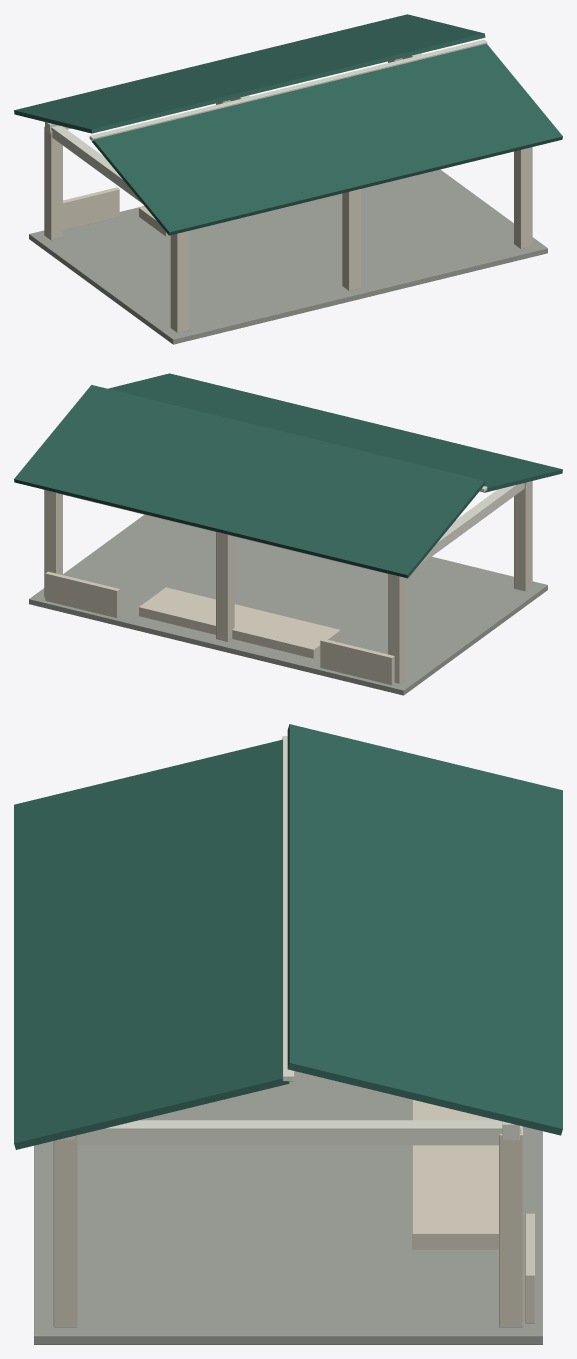
Rendered from source-edit.glb.
3 views of the same model, one above another, from view 1: azimuth 30°, elevation 25°; view 2: azimuth 150°, elevation 25°; view 3: azimuth 270°, elevation 25° (orthographic). The views are drawn at different scales.
Parts seen in each view (by area): view 1: ROOF_Half_-1, PLATFORM, ROOF_Half_1, RIDGE_Cap, COLUMN_-5.5_3.5, COLUMN_5.5_-3.5, COLUMN_0_-3.5, COLUMN_-5.5_-3.5, REAR_LowWall_-4.4, BEAM_Cross_-5.5; view 2: ROOF_Half_1, PLATFORM, ROOF_Half_-1, REAR_Platform, REAR_LowWall_4.4, REAR_LowWall_-4.4, COLUMN_0_3.5, COLUMN_-5.5_-3.5, COLUMN_-5.5_3.5, COLUMN_5.5_3.5, BEAM_Cross_-5.5; view 3: ROOF_Half_1, ROOF_Half_-1, PLATFORM, BEAM_Cross_5.5, REAR_Platform, COLUMN_5.5_3.5, COLUMN_5.5_-3.5, RIDGE_Cap, REAR_LowWall_4.4.
Boxes of the visible parts, box(x1,y1,x2,y2) form: ROOF_Half_-1: box(91, 43, 562, 235); PLATFORM: box(29, 169, 547, 344); ROOF_Half_1: box(14, 14, 485, 133); RIDGE_Cap: box(89, 39, 487, 141); COLUMN_-5.5_3.5: box(44, 126, 62, 240); COLUMN_5.5_-3.5: box(514, 147, 532, 248); COLUMN_0_-3.5: box(342, 189, 360, 290); COLUMN_-5.5_-3.5: box(170, 231, 188, 332); REAR_LowWall_-4.4: box(63, 187, 119, 230); BEAM_Cross_-5.5: box(51, 125, 142, 203); ROOF_Half_1: box(14, 385, 485, 578); PLATFORM: box(29, 514, 547, 695); ROOF_Half_-1: box(108, 373, 562, 492); REAR_Platform: box(139, 587, 340, 658); REAR_LowWall_4.4: box(45, 571, 119, 617); REAR_LowWall_-4.4: box(320, 638, 394, 685); COLUMN_0_3.5: box(216, 531, 234, 641); COLUMN_-5.5_-3.5: box(514, 481, 532, 591); COLUMN_-5.5_3.5: box(388, 573, 406, 683); COLUMN_5.5_3.5: box(44, 490, 62, 597); BEAM_Cross_-5.5: box(418, 483, 524, 566); ROOF_Half_1: box(287, 724, 562, 1135); ROOF_Half_-1: box(14, 739, 289, 1149); PLATFORM: box(34, 1071, 542, 1344); BEAM_Cross_5.5: box(78, 1120, 520, 1145); REAR_Platform: box(412, 1100, 498, 1249); COLUMN_5.5_3.5: box(499, 1126, 523, 1327); COLUMN_5.5_-3.5: box(53, 1135, 77, 1327); RIDGE_Cap: box(282, 736, 294, 1081); REAR_LowWall_4.4: box(525, 1213, 534, 1323).
Size of the model in its own units: 12.65 by 5.04 by 8.63.
